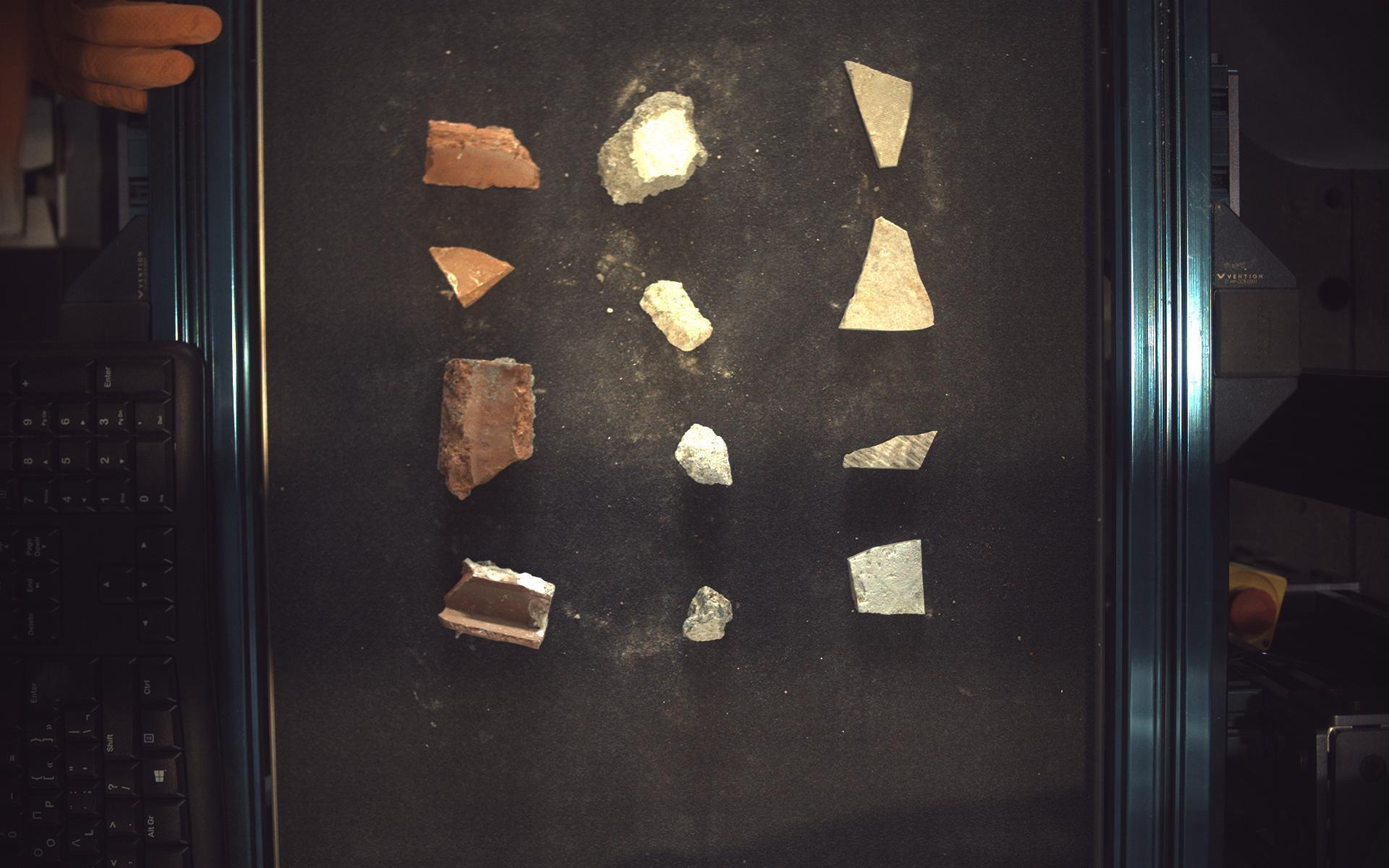brick: (438, 357, 536, 499), (438, 561, 555, 650), (424, 119, 540, 188), (430, 246, 514, 307)
concrete: (598, 90, 709, 204), (640, 280, 714, 352), (676, 425, 734, 485), (684, 587, 734, 642)
tile: (841, 216, 935, 331), (846, 59, 914, 167), (851, 540, 927, 616), (844, 431, 940, 470)
